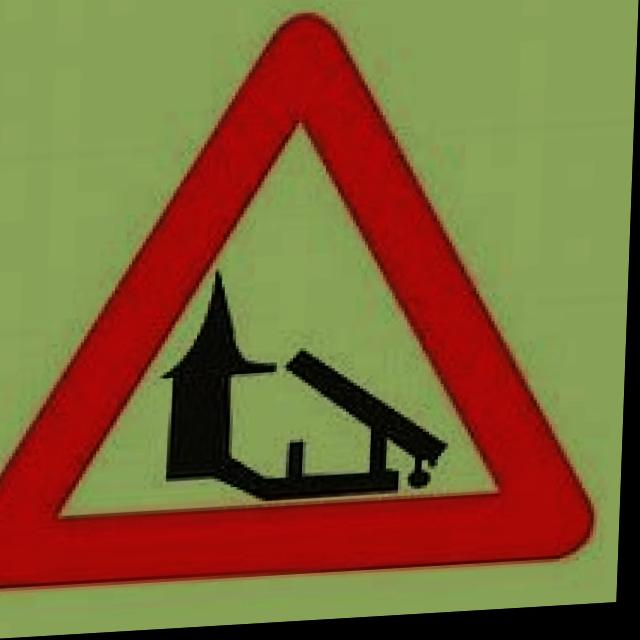BARRIER_AHEAD: (0, 3, 610, 606)
